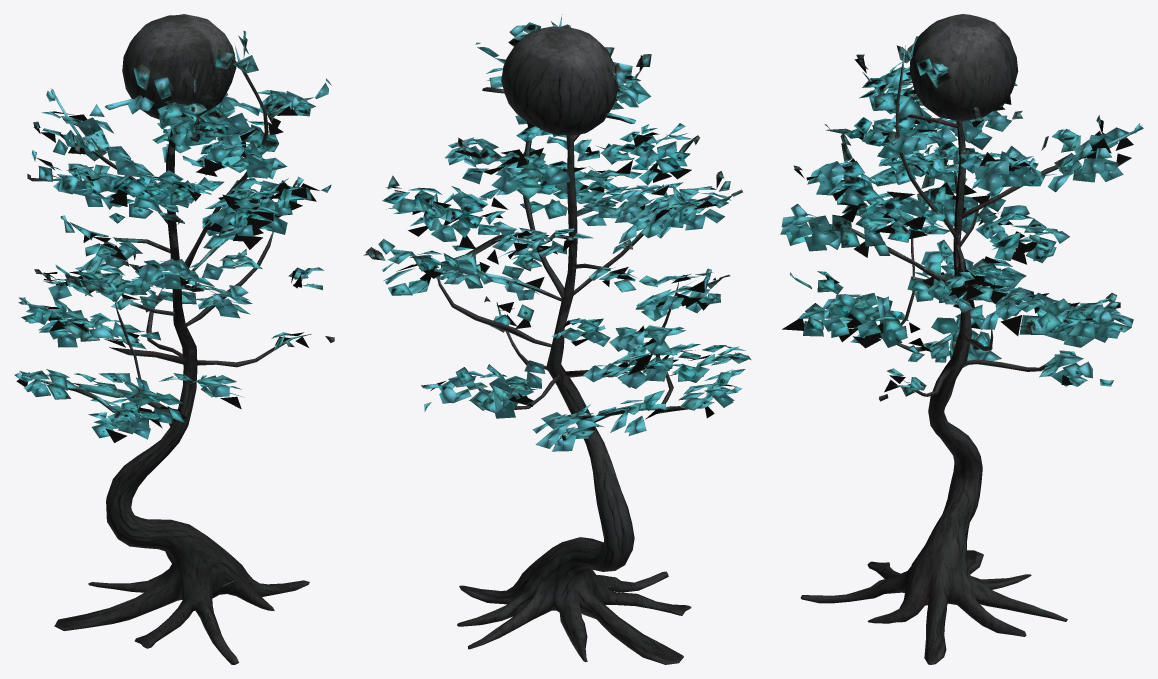
The model's file is moon-silver-tree.glb.
3 views of the same model, side by side, from view 1: azimuth 30°, elevation 25°; view 2: azimuth 150°, elevation 25°; view 3: azimuth 270°, elevation 25° (orthographic). The views are drawn at different scales.
Size of the model in its own units: 0.5918 by 1 by 0.5594.
1 material, 1 textured.
